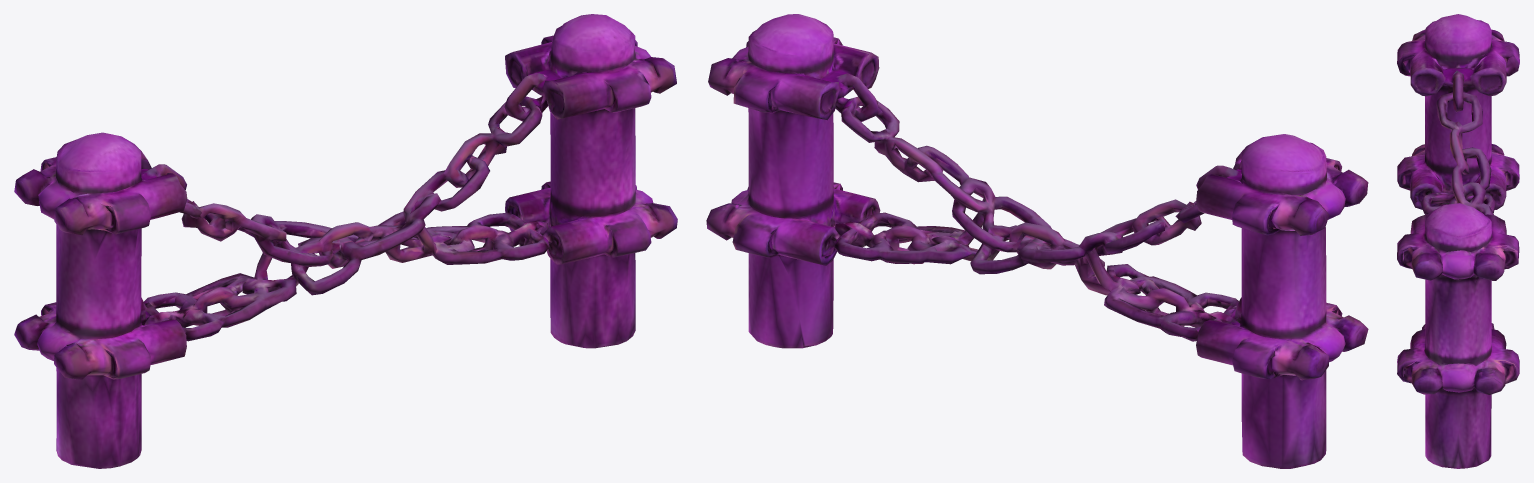
The model's file is Low_poly_game_asset__1207090042_texture-v1.glb.
The picture shows the model from 3 angles, left to right: view 1: azimuth 30°, elevation 25°; view 2: azimuth 150°, elevation 25°; view 3: azimuth 270°, elevation 25°; orthographic projection. The views are drawn at different scales.
Visible parts, largest first — view 1: Mesh1.0; view 2: Mesh1.0; view 3: Mesh1.0.
Boxes of the visible parts, <box> form: Mesh1.0: <box>14,14,677,468</box>; Mesh1.0: <box>706,14,1368,468</box>; Mesh1.0: <box>1397,14,1519,468</box>.
Bounding box in the file's own units: 2.44 × 1.2 × 0.5401.
Materials: 1 (1 with a texture image).
